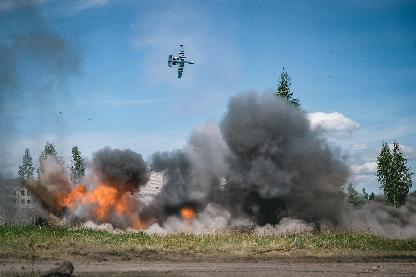A10: (167, 44, 195, 77)
